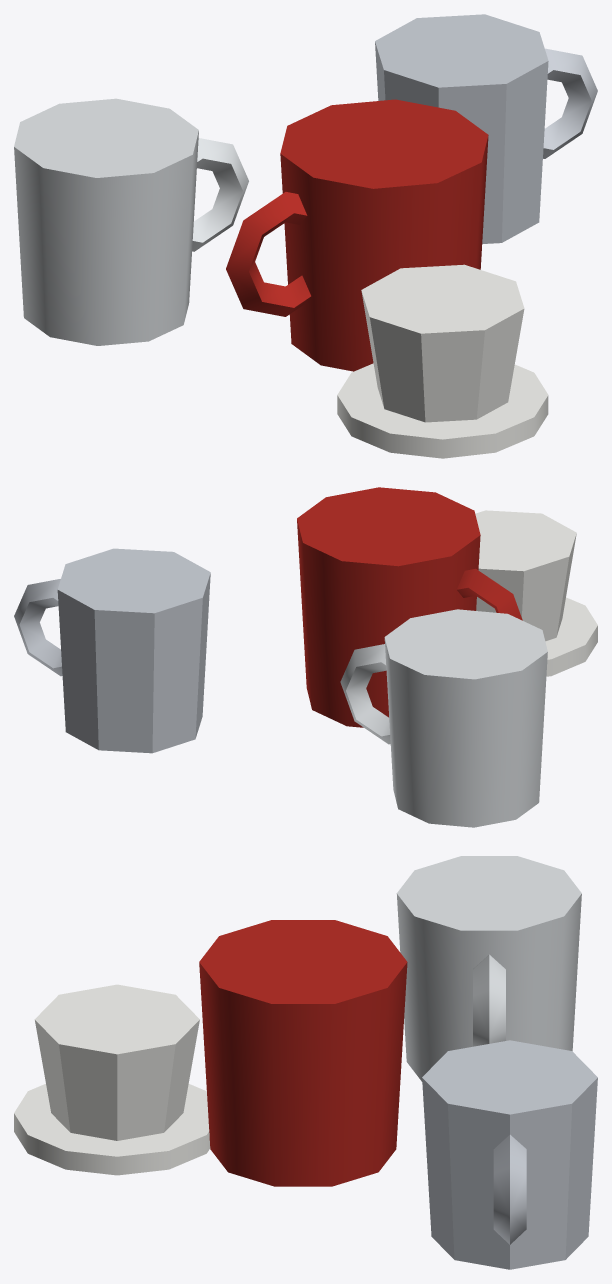
The model's file is tableware_cups_and_mugs.glb.
3 views of the same model, one above another, from view 1: azimuth 30°, elevation 25°; view 2: azimuth 150°, elevation 25°; view 3: azimuth 270°, elevation 25° (orthographic). The views are drawn at different scales.
Visible parts, largest first — view 1: tableware_cups_and_mugs; view 2: tableware_cups_and_mugs; view 3: tableware_cups_and_mugs.
Part boxes in pixels (x1,y1,x2,y2): tableware_cups_and_mugs: (14,14,597,458); tableware_cups_and_mugs: (14,487,597,827); tableware_cups_and_mugs: (14,856,597,1269).
Bounding box in the file's own units: 0.3171 × 0.1 × 0.2826.
